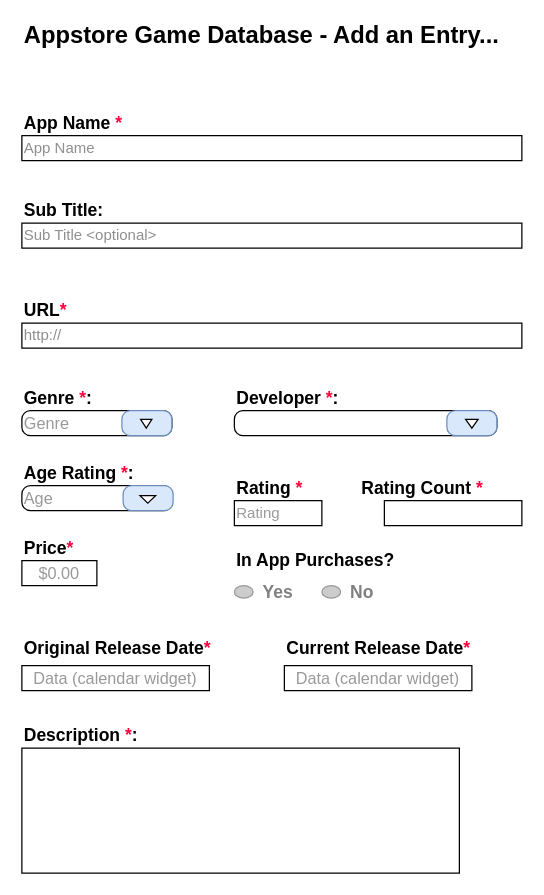
Image size: 544x895. Some labels were removed from this diagram. Each missing label, with the box of its shape:
# of Ratings: (383, 499, 522, 526)
Description: (21, 747, 459, 873)
Developer Combo Box: (233, 409, 497, 436)
